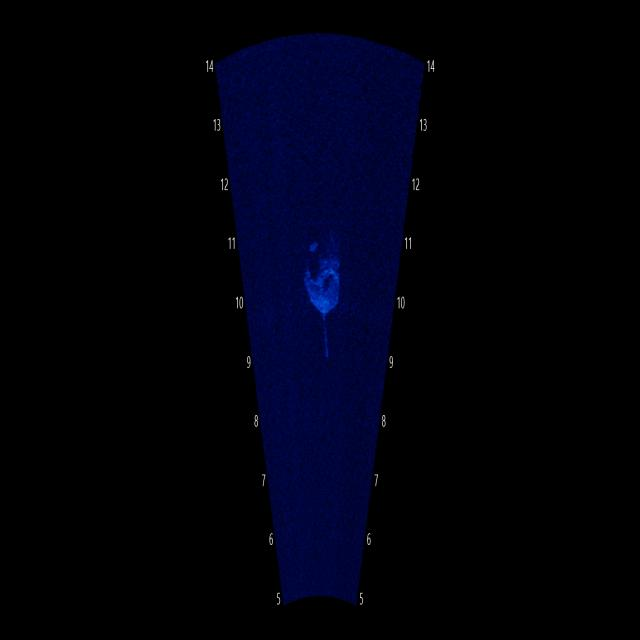circle: (300, 223, 346, 324)
